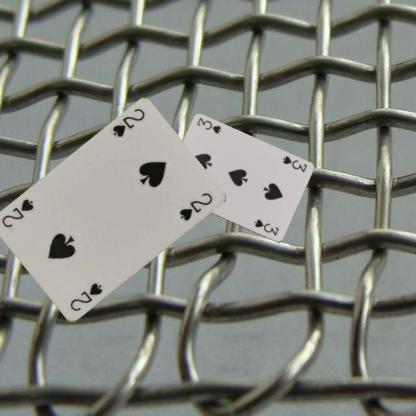2s: (67, 280, 104, 313), (110, 106, 146, 139)
3s: (280, 153, 308, 174)
